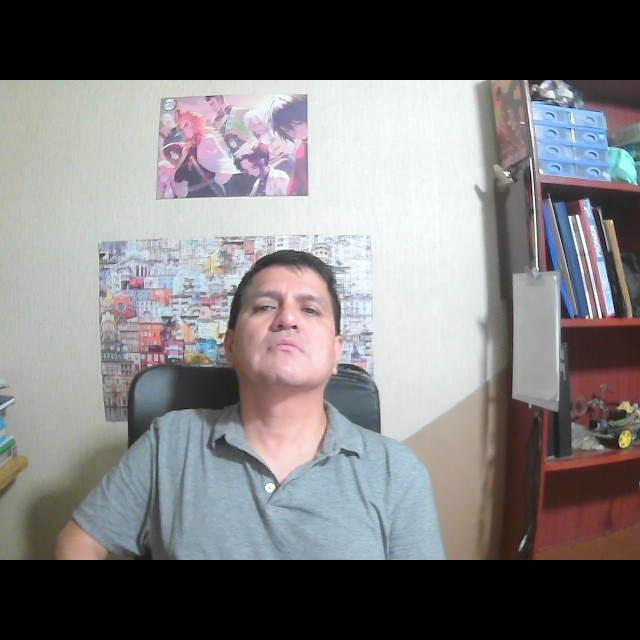cesar: (214, 234, 354, 426)
